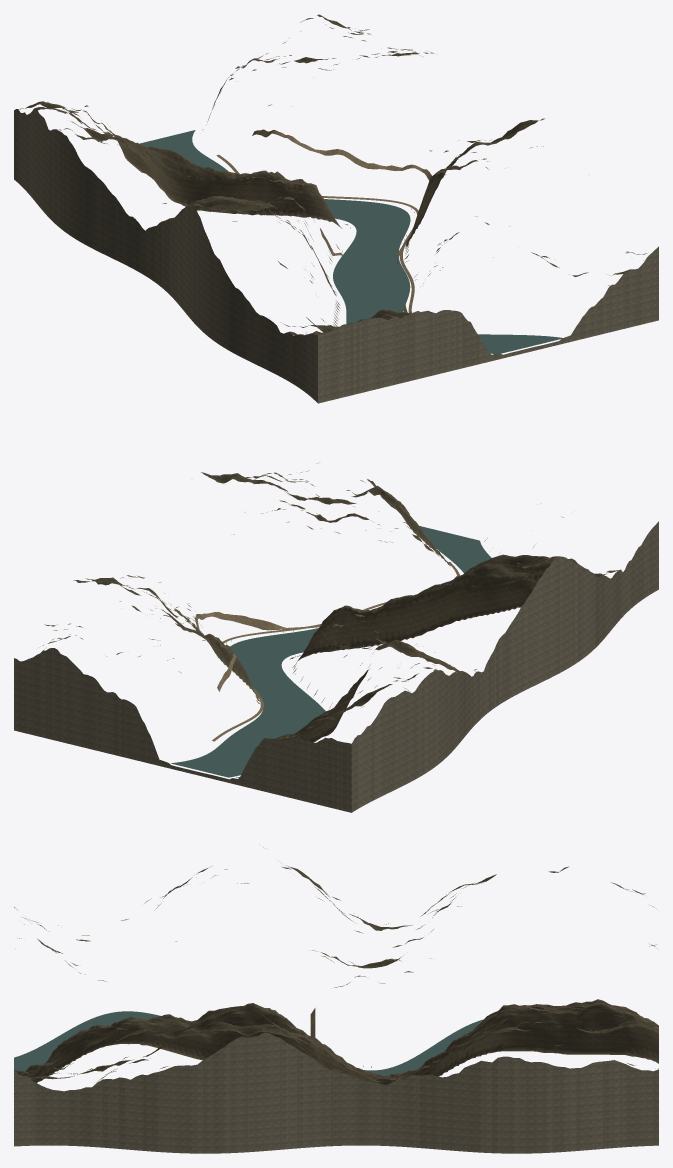
The model's file is ch04_chishui_valley.glb.
The picture shows the model from 3 angles, top to bottom: view 1: azimuth 30°, elevation 25°; view 2: azimuth 150°, elevation 25°; view 3: azimuth 270°, elevation 25°; orthographic projection. The views are drawn at different scales.
Parts seen in each view (by area): view 1: terrain_boundary__closed_earth_boundary, terrain__eroded_landscape, water_placeholder__river_waterline, branch_mountain_path, bank_path__bank_path; view 2: terrain_boundary__closed_earth_boundary, terrain__eroded_landscape, water_placeholder__river_waterline, branch_mountain_path, bank_path__bank_path; view 3: terrain_boundary__closed_earth_boundary, terrain__eroded_landscape, water_placeholder__river_waterline.
Boxes of the visible parts, <box> form: terrain_boundary__closed_earth_boundary: <box>14,108,658,403</box>; terrain__eroded_landscape: <box>17,14,646,354</box>; water_placeholder__river_waterline: <box>140,130,562,354</box>; branch_mountain_path: <box>146,129,431,312</box>; bank_path__bank_path: <box>216,154,418,312</box>; terrain_boundary__closed_earth_boundary: <box>14,521,658,812</box>; terrain__eroded_landscape: <box>42,462,618,777</box>; water_placeholder__river_waterline: <box>171,526,491,777</box>; branch_mountain_path: <box>195,612,362,706</box>; bank_path__bank_path: <box>212,562,459,741</box>; terrain_boundary__closed_earth_boundary: <box>14,1032,658,1153</box>; terrain__eroded_landscape: <box>14,847,658,1084</box>; water_placeholder__river_waterline: <box>14,1011,483,1075</box>.
Bounding box in the file's own units: 230 × 70.15 × 330.
4 materials, 3 textured.
